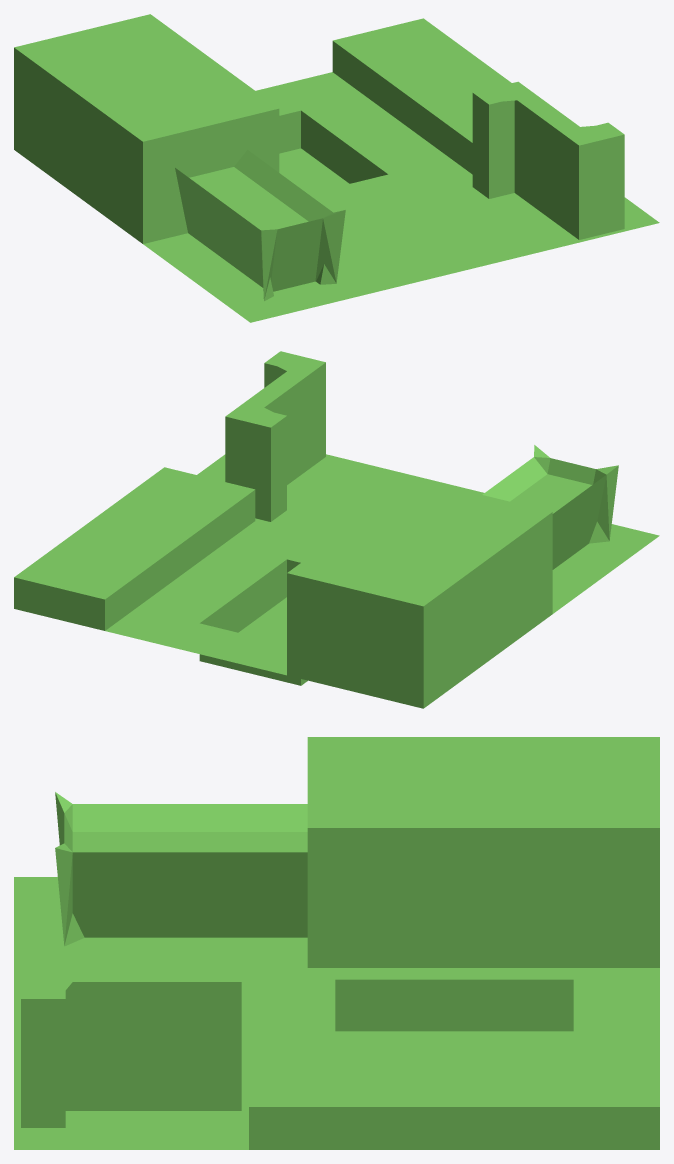
File: fifthFloorTile.dae
3 views of the same model, one above another, from view 1: azimuth 30°, elevation 25°; view 2: azimuth 150°, elevation 25°; view 3: azimuth 270°, elevation 25° (orthographic). The views are drawn at different scales.
Parts seen in each view (by area): view 1: Plane; view 2: Plane; view 3: Plane.
Boxes of the visible parts, x1=… form: Plane: x1=14, y1=14, x2=659, y2=322; Plane: x1=14, y1=351, x2=659, y2=708; Plane: x1=14, y1=737, x2=659, y2=1149.
Bounding box in the file's own units: 16 × 16 × 5.23.
